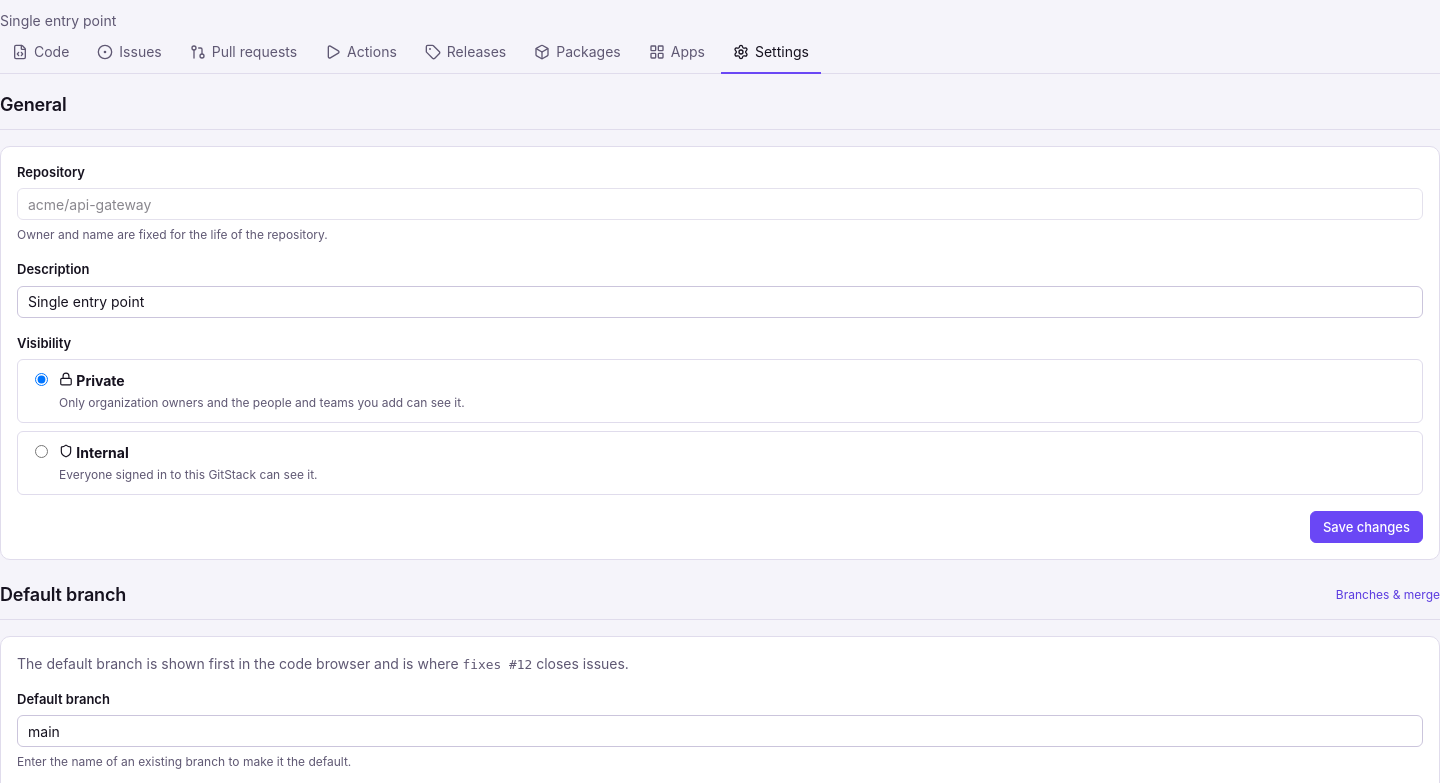
Test case: RepoSettingsPage › mostra sul campo l'errore 409/422 del branch
Replace the text in the field labelled "Default branch" with "nope" at point(720, 731), box [17,715,1423,747]
(page scrolled)
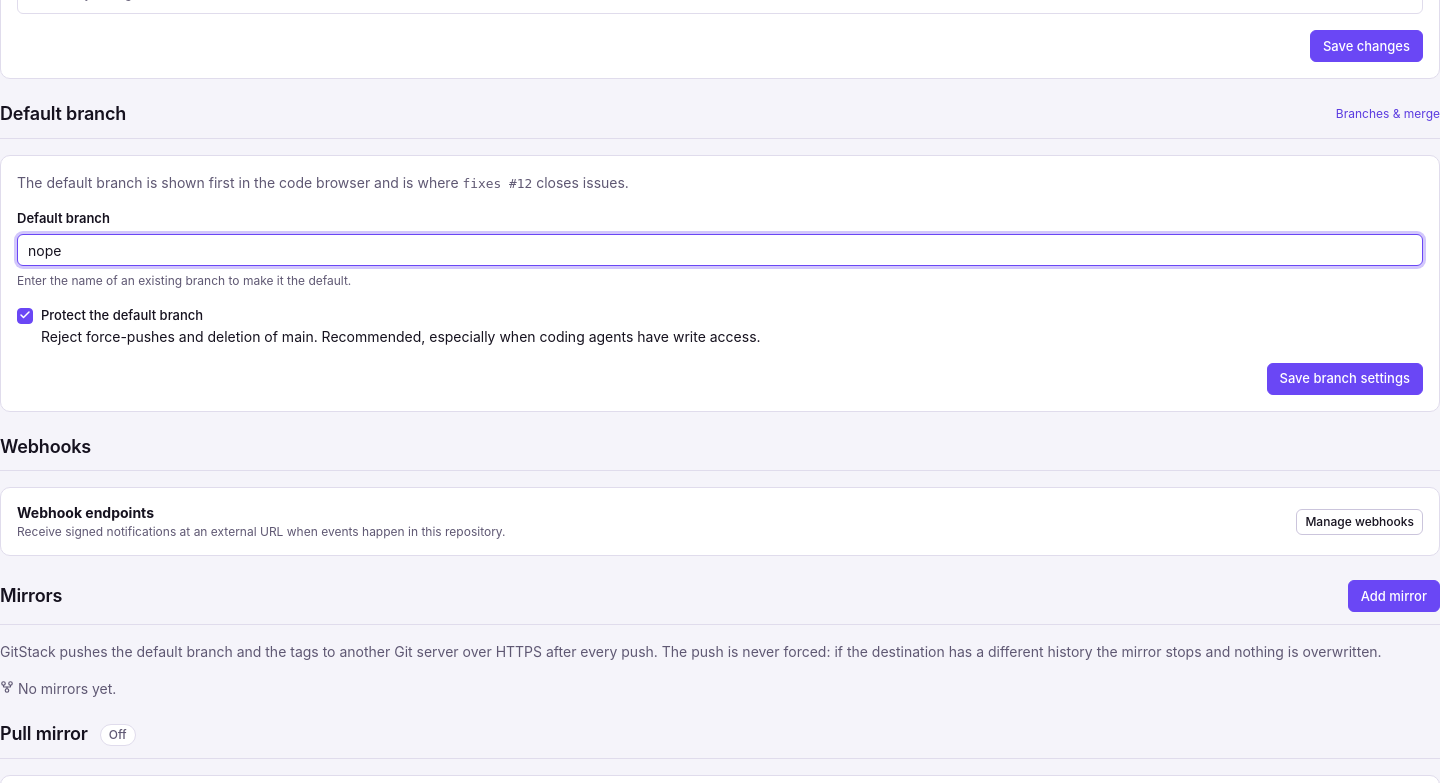
Click the button "Save branch settings".
click(1345, 379)  # box [1266,363,1423,395]
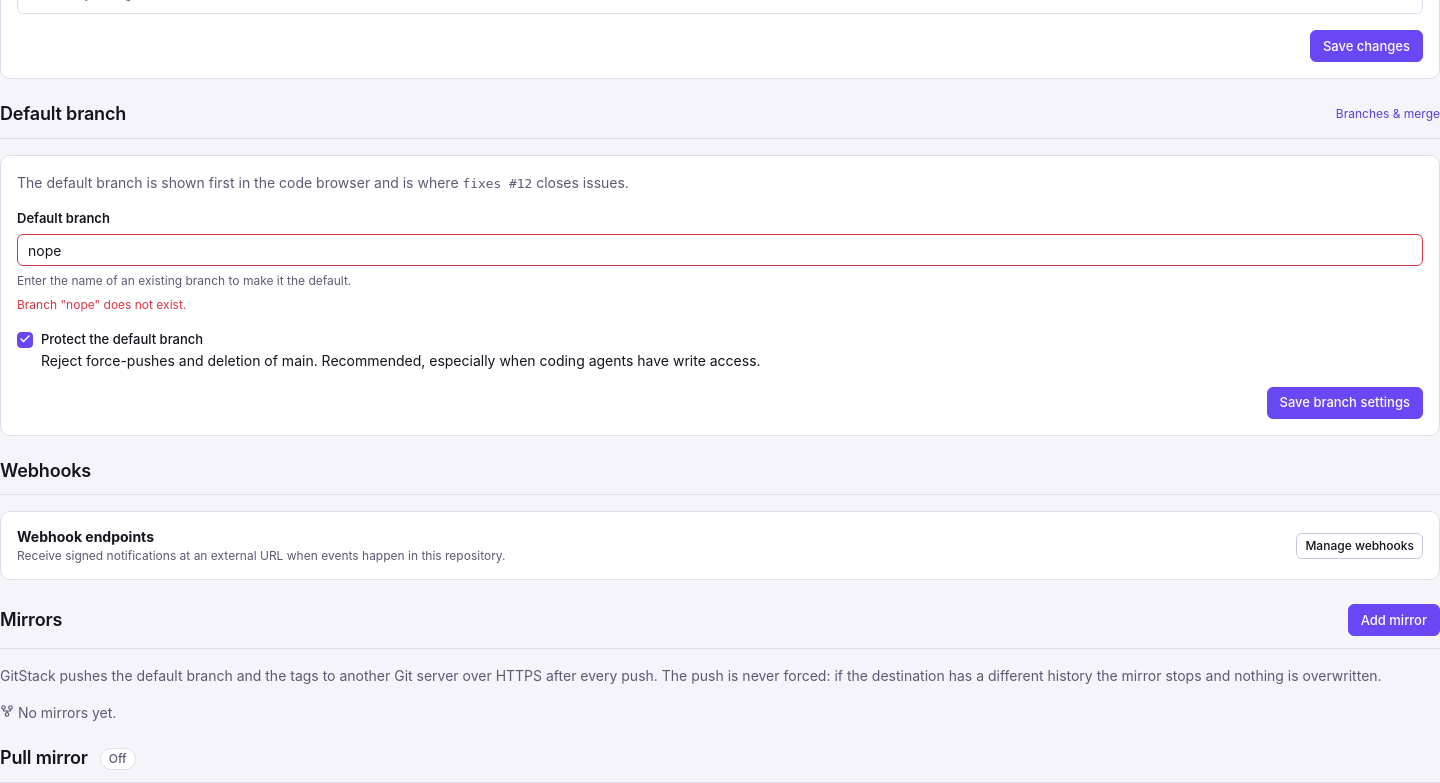
Result: the text "Branch \"nope\" does not exist." is shown at [17,297,186,312]
